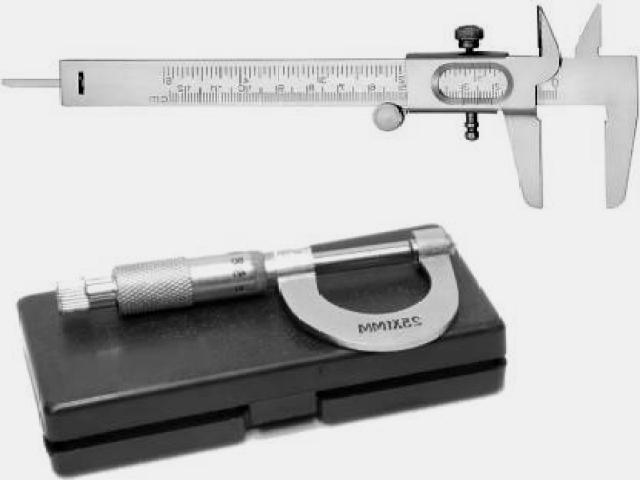Calipers: (0, 7, 639, 207)
